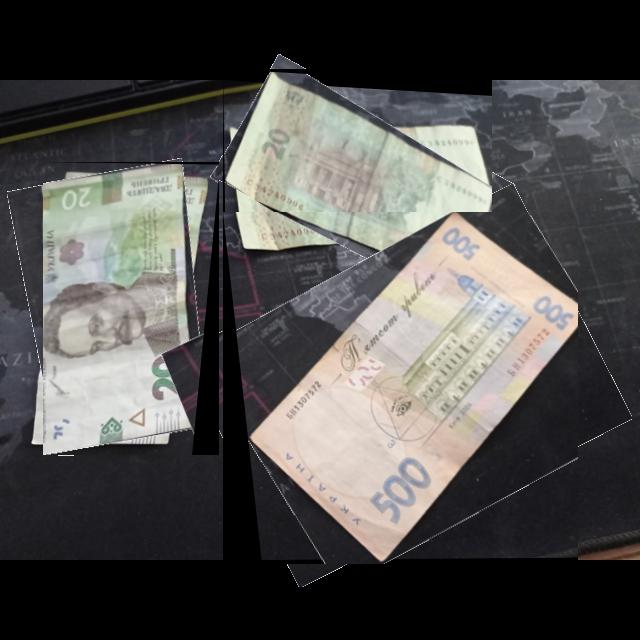20uah: (225, 71, 493, 288), (43, 165, 200, 456)
500uah: (243, 212, 579, 565)
